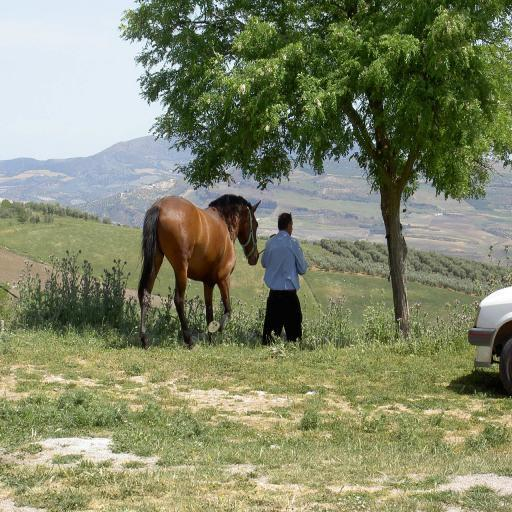horse: (134, 194, 264, 348)
